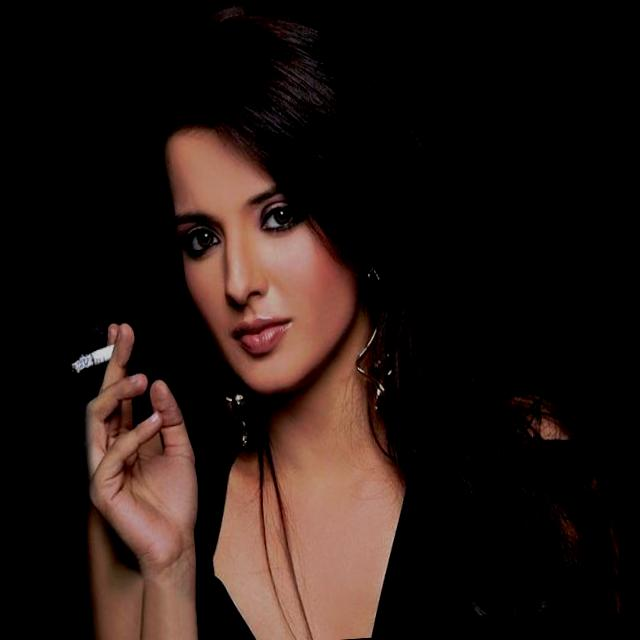cigarette: (52, 326, 128, 381)
